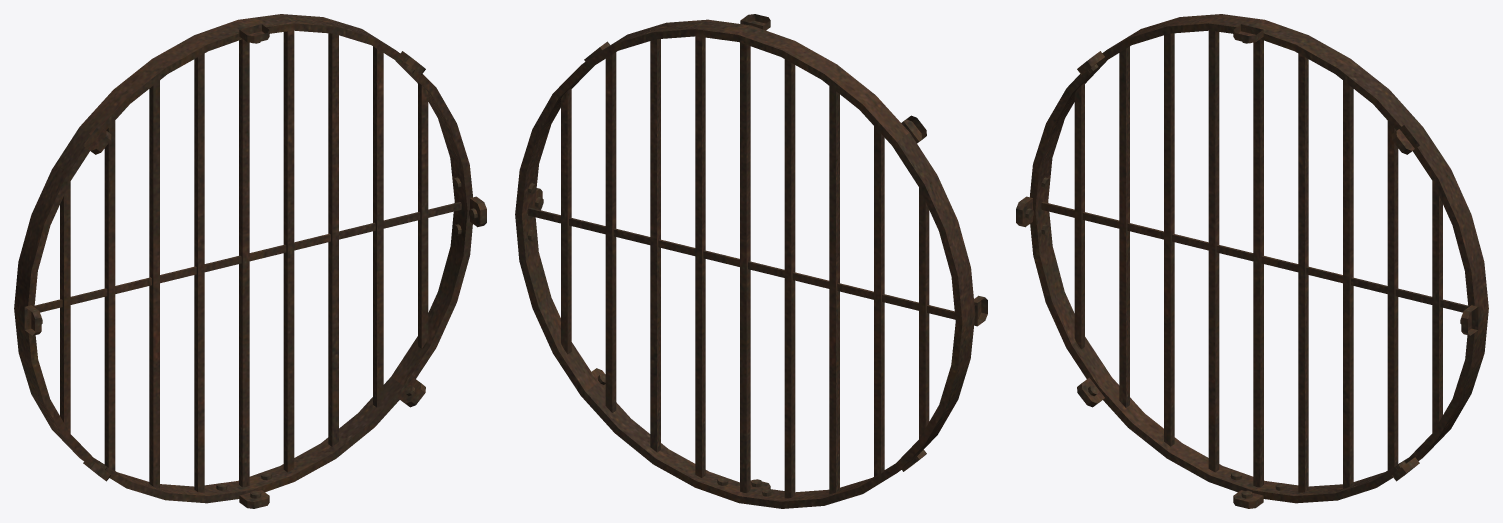
File: concrete_pipe_hm_1_end_bars_1.obj
3 renders of one model, left to right at view 1: azimuth 30°, elevation 25°; view 2: azimuth 150°, elevation 25°; view 3: azimuth 330°, elevation 25°, orthographic.
Visible parts, largest first — view 1: concrete_pipe_hm_1_end_bars_1; view 2: concrete_pipe_hm_1_end_bars_1; view 3: concrete_pipe_hm_1_end_bars_1.
Part boxes in pixels (x1,y1,x2,y2): concrete_pipe_hm_1_end_bars_1: (14,14,486,508); concrete_pipe_hm_1_end_bars_1: (515,14,987,508); concrete_pipe_hm_1_end_bars_1: (1016,14,1488,508).
Size of the model in its own units: 2.02 by 2.02 by 0.18.
